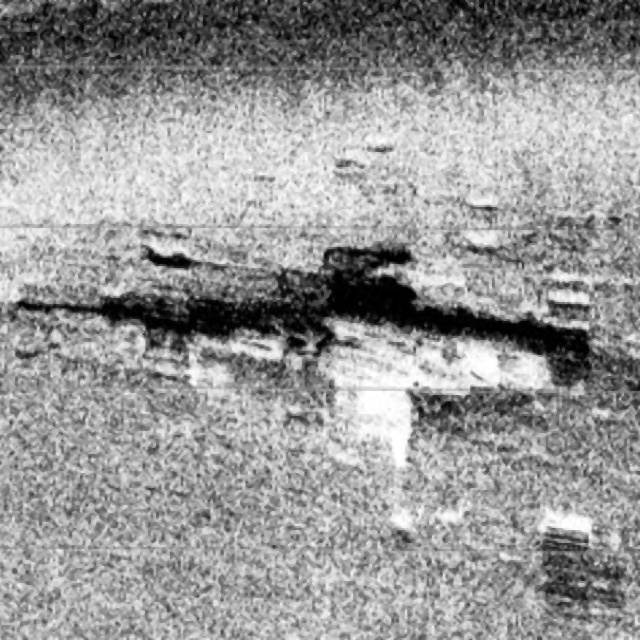Ship: (20, 221, 616, 425)
